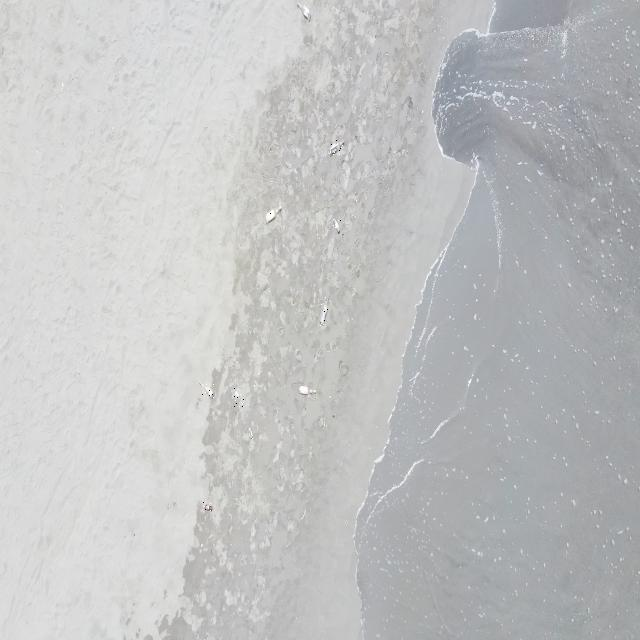glass: (265, 205, 282, 226), (328, 138, 345, 158), (296, 1, 312, 22), (198, 379, 215, 398), (319, 296, 329, 326), (233, 388, 244, 408), (298, 384, 316, 396), (333, 217, 341, 235), (203, 502, 213, 512), (248, 427, 254, 441)
